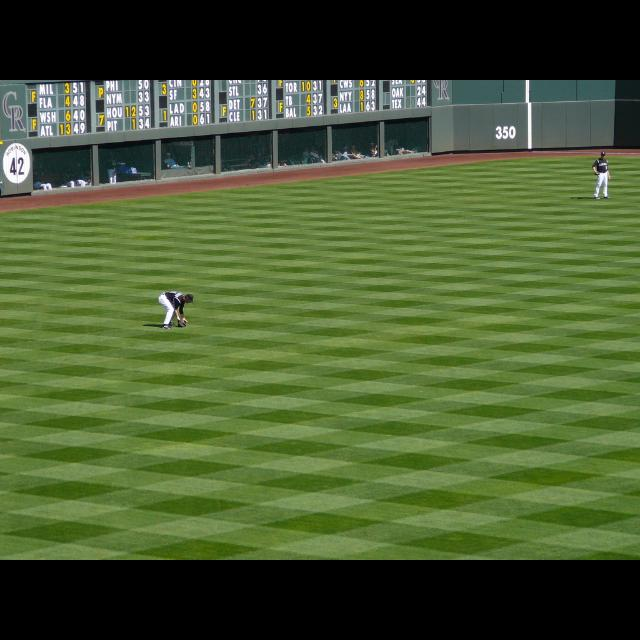Football: (174, 312, 186, 324)
